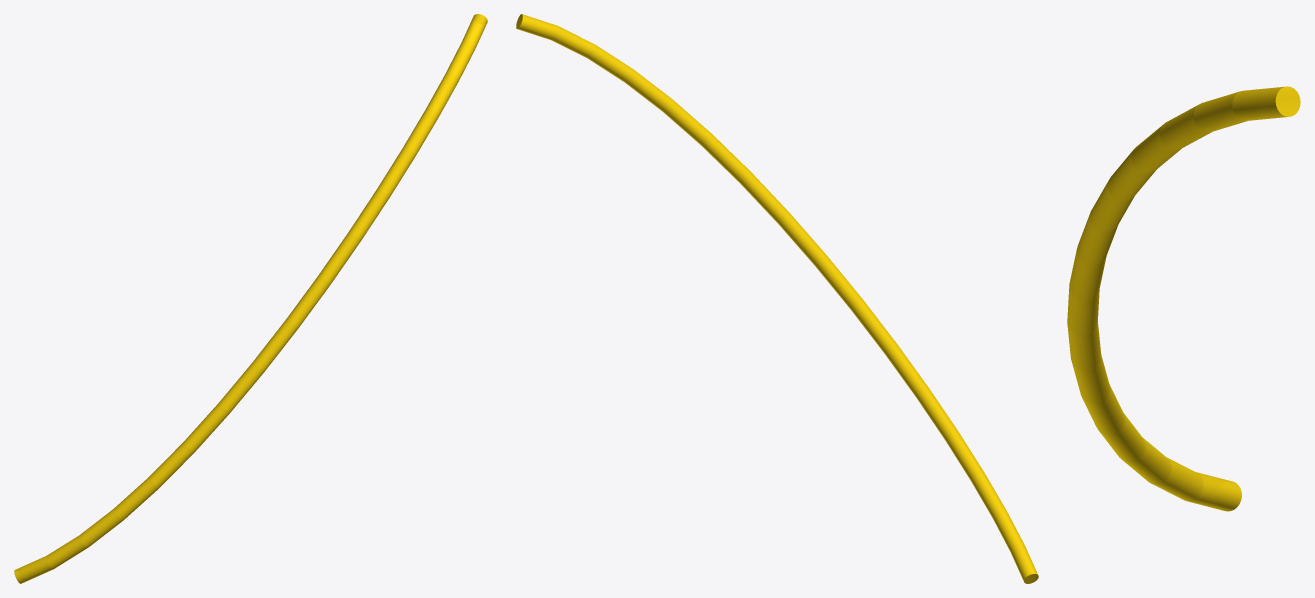
The model's file is Event_421115418_track_104.fbx.
The picture shows the model from 3 angles, left to right: view 1: azimuth 30°, elevation 25°; view 2: azimuth 150°, elevation 25°; view 3: azimuth 270°, elevation 25°; orthographic projection. The views are drawn at different scales.
Parts seen in each view (by area): view 1: Model; view 2: Model; view 3: Model.
Boxes of the visible parts, x1,y1,x2,y2 form: Model: [14, 14, 487, 583]; Model: [516, 14, 1038, 583]; Model: [1067, 86, 1300, 511].
Size of the model in its own units: 1.47 by 1.28 by 0.3048.
